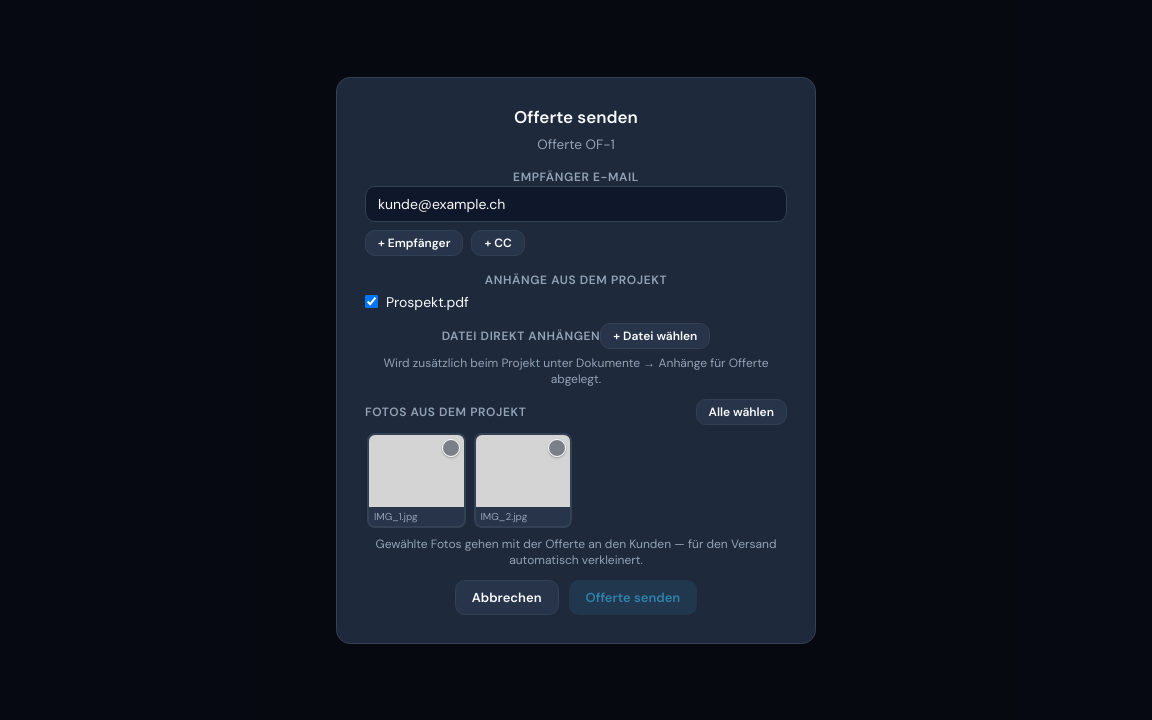
SendQuoteDialog — mehrere Empfänger und CC › sagt beim CC-Feld, dass die Kopie nicht angenommen werden kann
The image size is (1152, 720).
Expected: the text "Prospekt.pdf" is shown, [365,292,469,310]
Expected: the text "ohne Annehmen/Ablehnen" is not shown
Click the button "+ CC". click: {"x": 498, "y": 242}
box: [472,230,525,256]
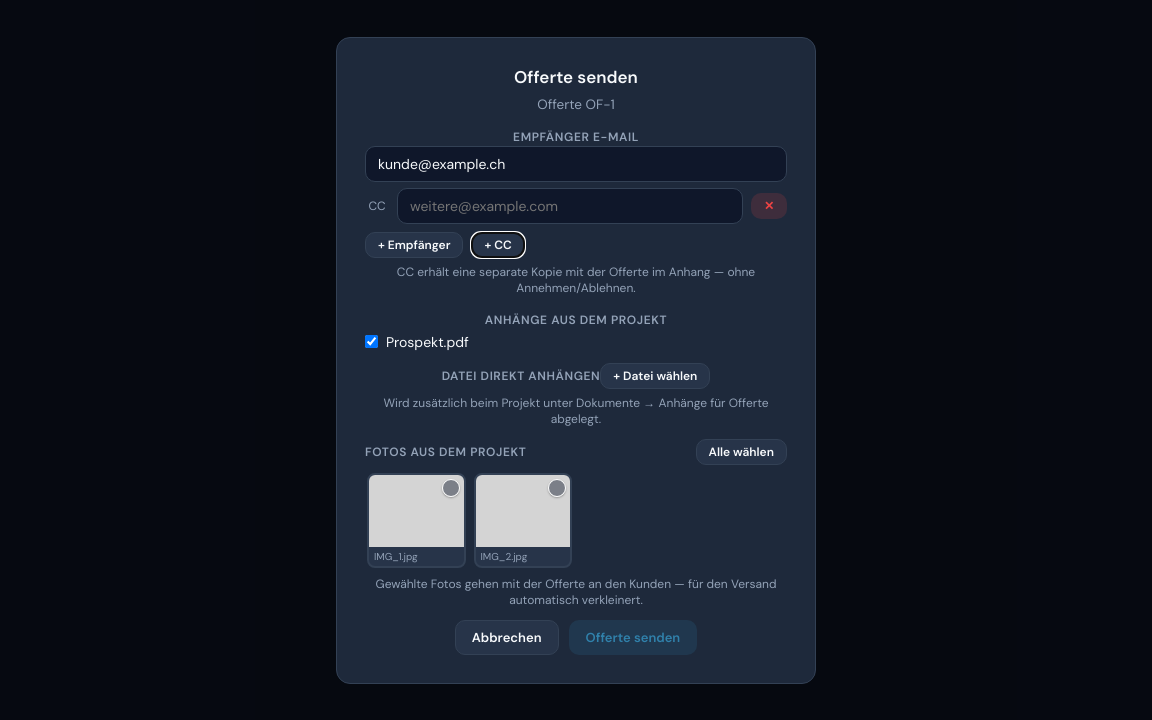
Expected: the text "ohne Annehmen/Ablehnen" is shown, [397,264,755,296]
